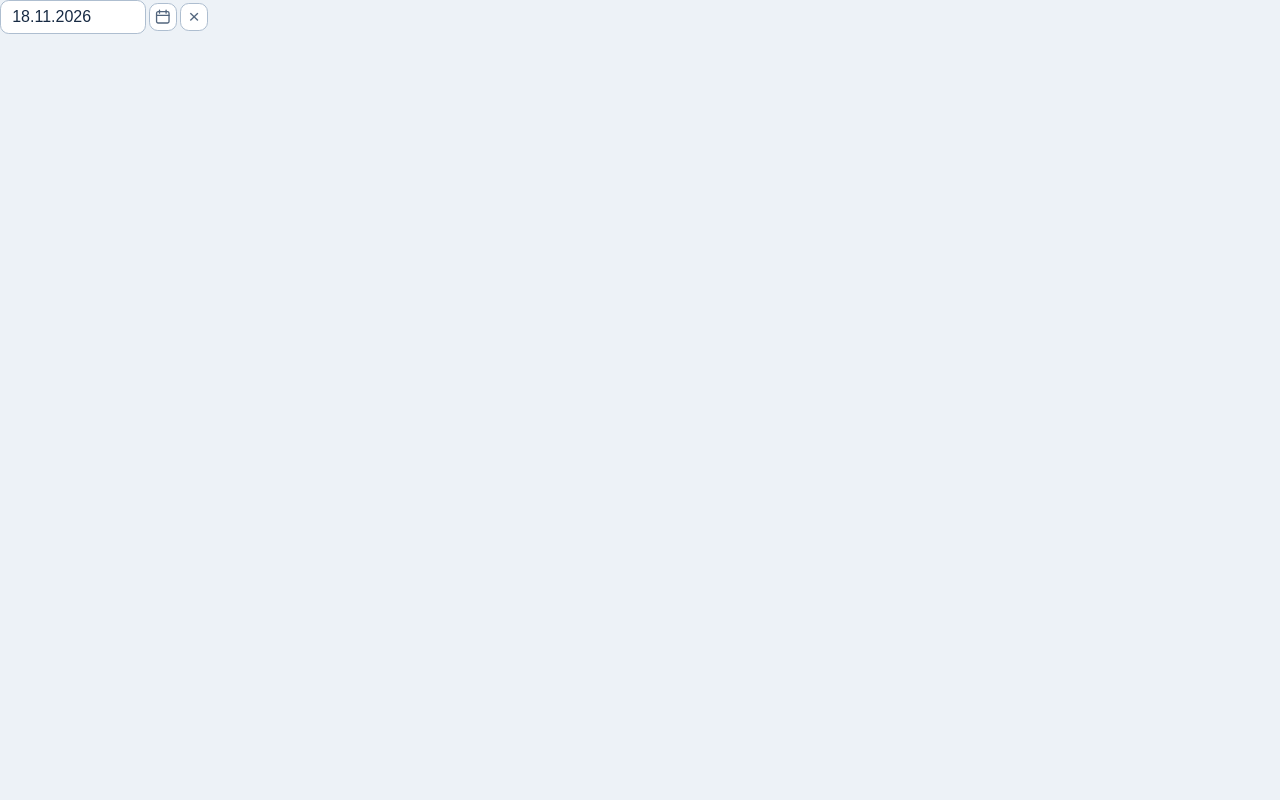
it: selects a year by mouse without typing and supports escape
Later steps or results of the test are not shown.
Click the button named "Выбрать дату" at (163, 17), box x1=149 y1=3 x2=177 y2=31
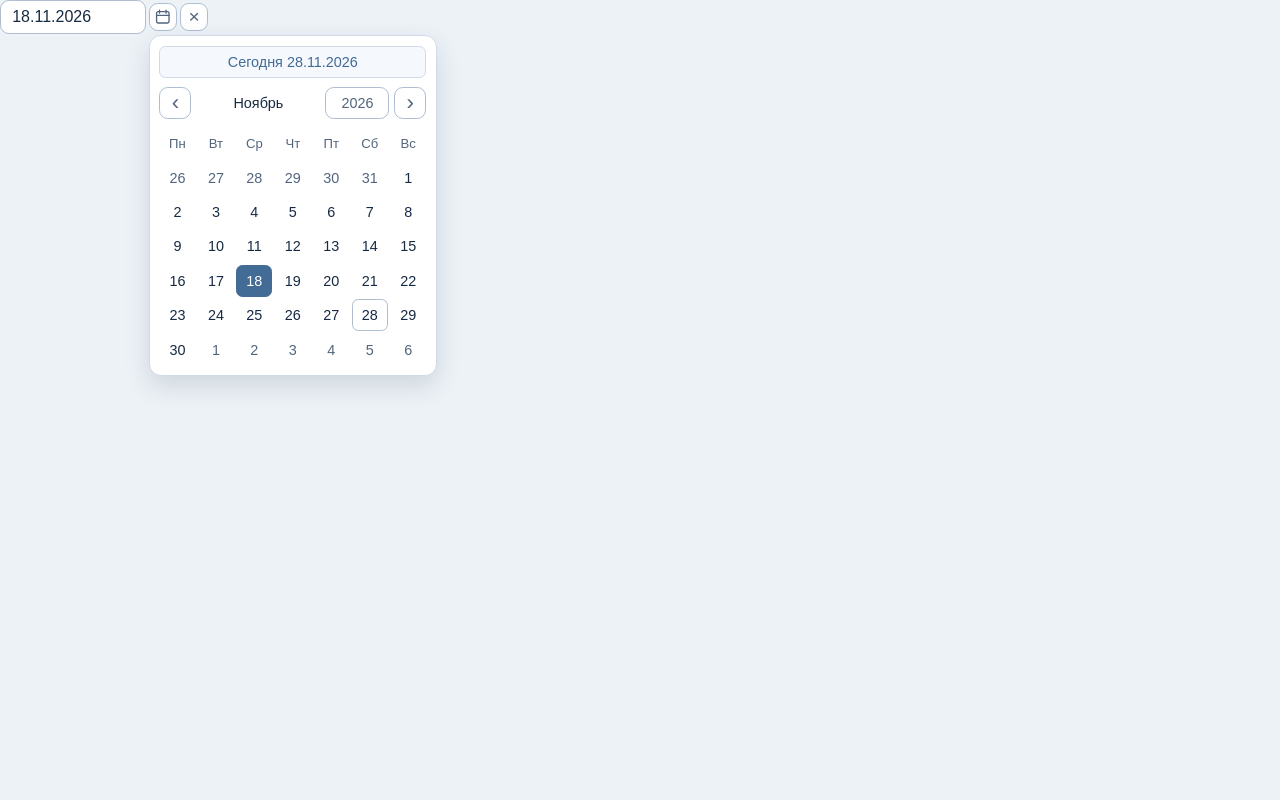
Click the button named "Выбрать год" at (357, 103), box x1=325 y1=87 x2=389 y2=119
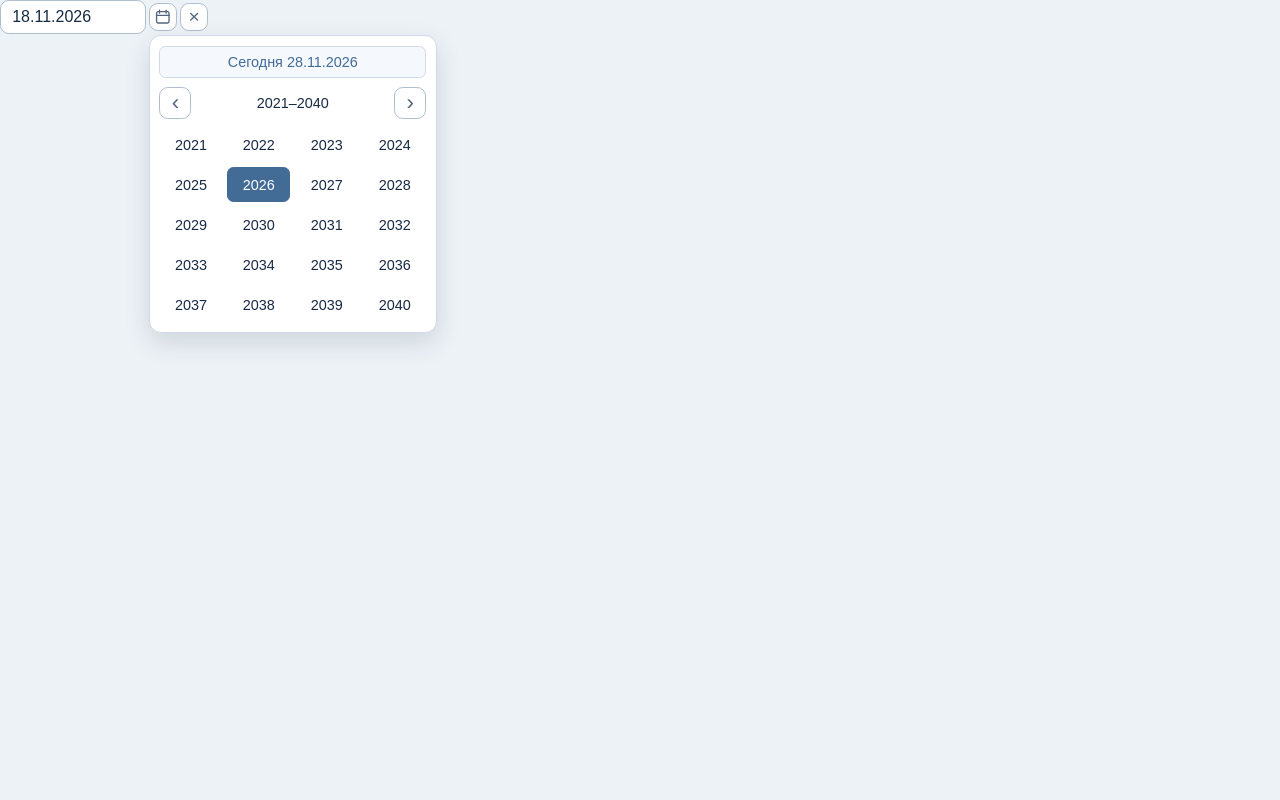
Click the button named "Предыдущие 20 лет" at (175, 103), box x1=159 y1=87 x2=191 y2=119
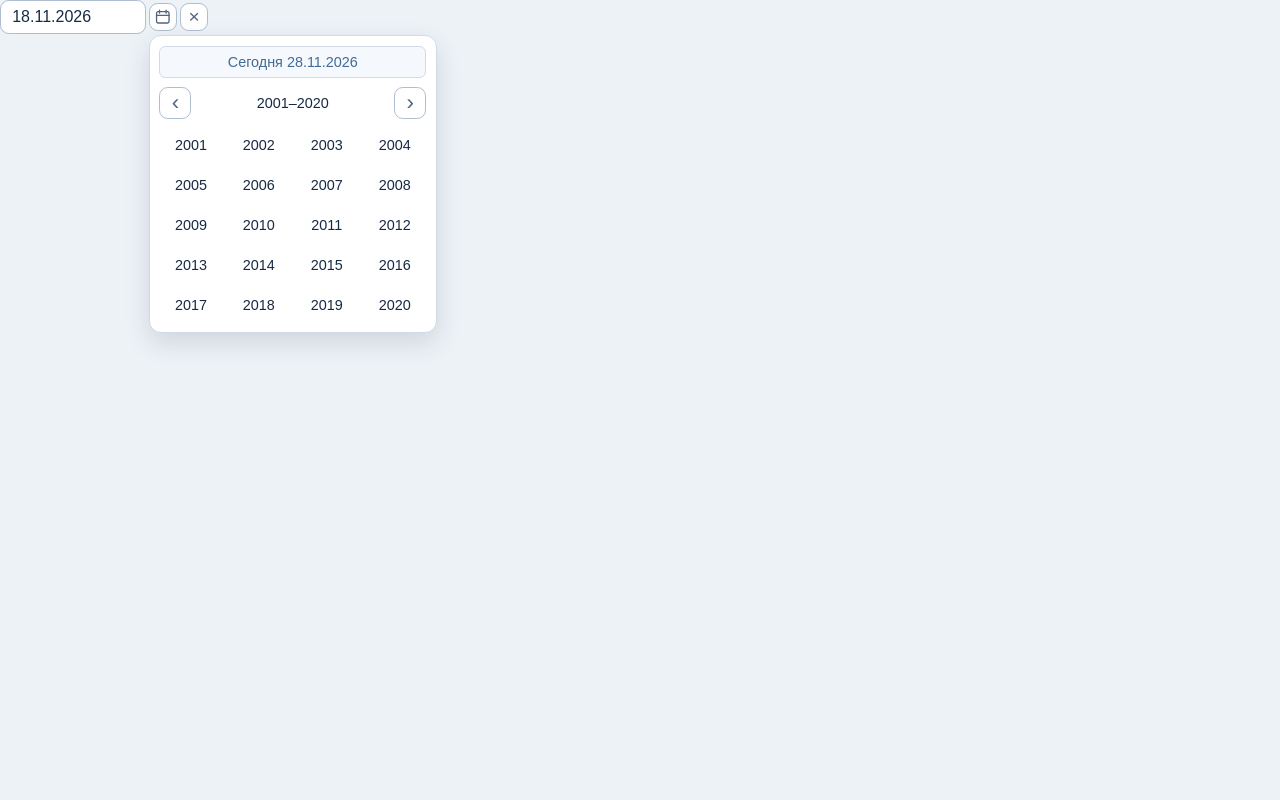
Click the button "2005" at (191, 185), box x1=159 y1=167 x2=222 y2=202
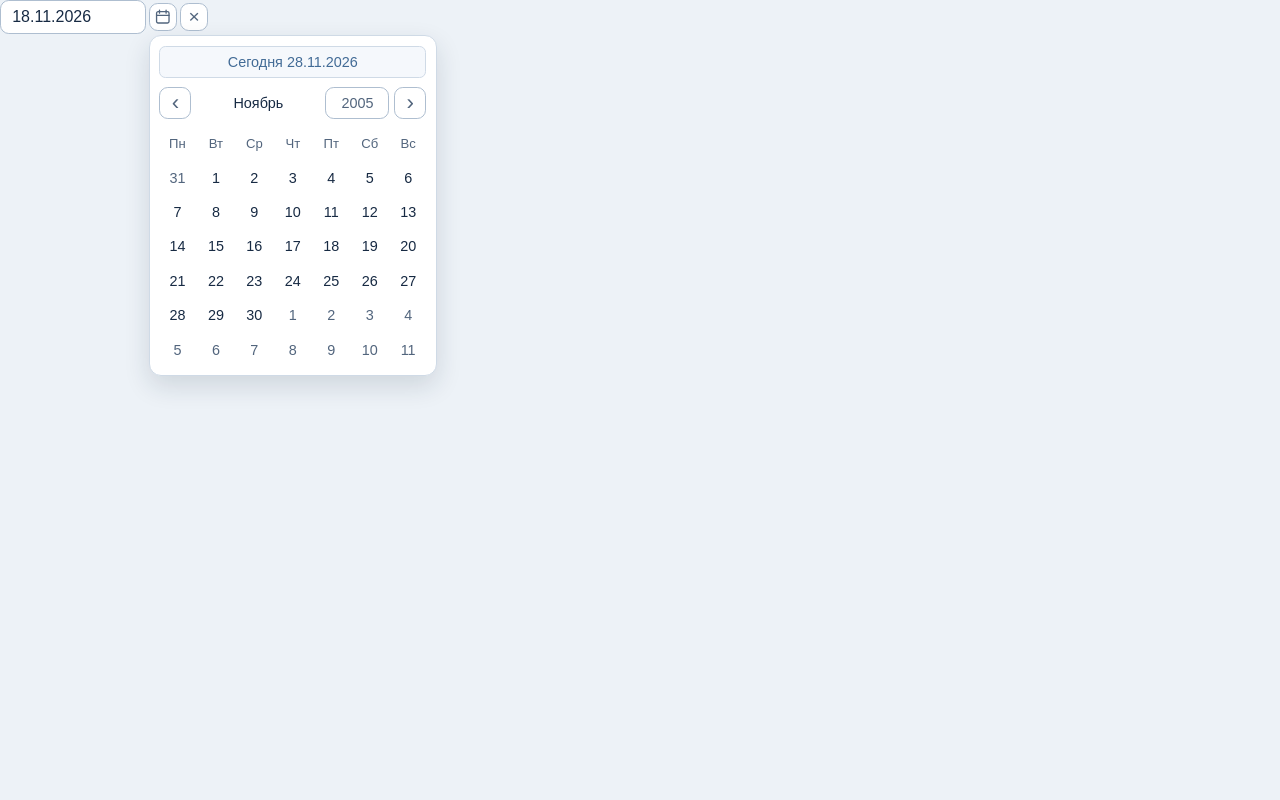
Expected: the button named "Выбрать год" reads "2005", x1=325 y1=87 x2=389 y2=119
Expected: the button named "2005 г." is shown, x1=159 y1=162 x2=196 y2=194
